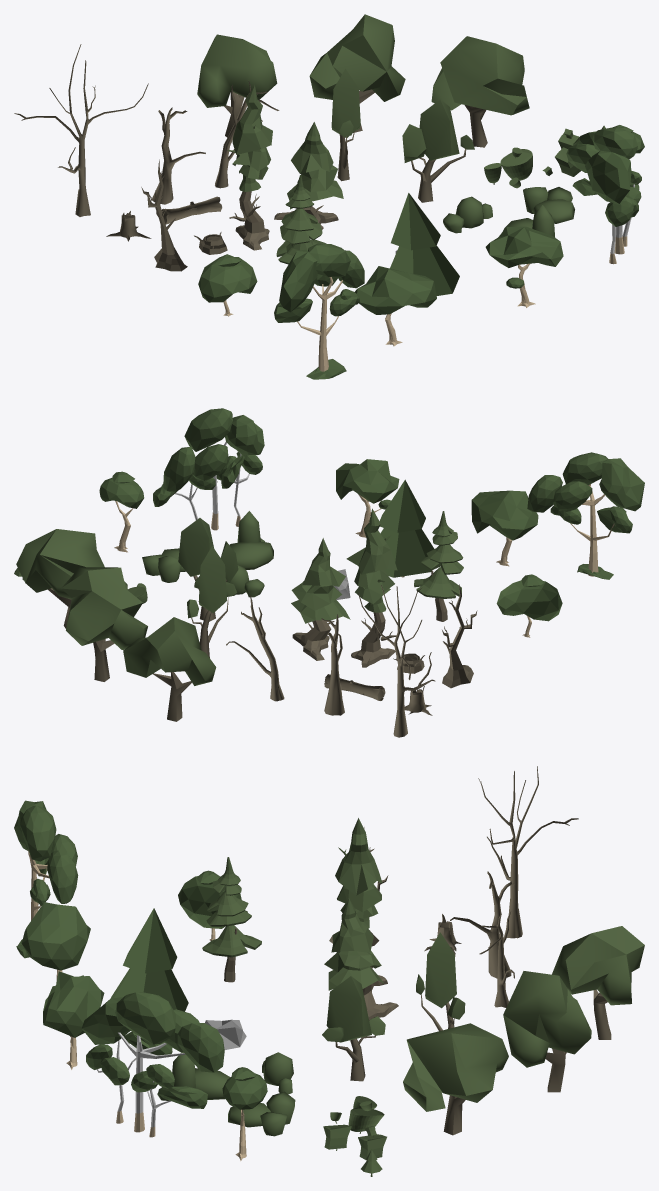
The model's file is Nature02.fbx.
3 renders of one model, top to bottom at view 1: azimuth 30°, elevation 25°; view 2: azimuth 150°, elevation 25°; view 3: azimuth 270°, elevation 25°, orthographic. The views are drawn at different scales.
Visible parts, largest first — view 1: FatTree.003, FatTree.012, FatTree.008, FatTree.002, FatTree.001, FatTree.007, FatTree.009, FatTree.004, FatTree.010, FatTree, FatTree.006, FatTree.014 (+11 smaller); view 2: FatTree.008, FatTree.012, FatTree.002, FatTree.001, FatTree.003, FatTree.007, FatTree.006, FatTree.009, FatTree.010, FatTree.011, FatTree, FatTree.014 (+11 smaller); view 3: FatTree.008, FatTree.003, FatTree.002, FatTree.001, FatTree.012, FatTree.009, FatTree.010, FatTree.006, FatTree.004, FatTree.011, FatTree.007, FatTree (+13 smaller).
Part boxes in pixels (<box>): FatTree.003: <box>431,36,529,147</box>; FatTree.012: <box>274,243,364,379</box>; FatTree.008: <box>566,127,641,264</box>; FatTree.002: <box>309,14,405,132</box>; FatTree.001: <box>197,34,277,137</box>; FatTree.007: <box>227,85,272,250</box>; FatTree.009: <box>390,193,459,295</box>; FatTree.004: <box>402,99,474,202</box>; FatTree.010: <box>354,266,436,346</box>; FatTree: <box>485,226,563,307</box>; FatTree.006: <box>274,122,343,229</box>; FatTree.014: <box>198,254,257,316</box>; FatTree.008: <box>153,408,264,530</box>; FatTree.012: <box>527,452,644,579</box>; FatTree.002: <box>61,567,147,681</box>; FatTree.001: <box>123,617,216,721</box>; FatTree.003: <box>16,529,104,628</box>; FatTree.007: <box>346,508,397,667</box>; FatTree.006: <box>291,538,350,660</box>; FatTree.009: <box>379,479,434,577</box>; FatTree.010: <box>471,490,538,566</box>; FatTree.011: <box>414,511,463,621</box>; FatTree: <box>336,459,399,537</box>; FatTree.014: <box>496,574,562,637</box>; FatTree.008: <box>81,992,224,1137</box>; FatTree.003: <box>403,1023,508,1135</box>; FatTree.002: <box>503,971,591,1092</box>; FatTree.001: <box>552,926,644,1039</box>; FatTree.012: <box>14,800,78,958</box>; FatTree.009: <box>110,908,188,1011</box>; FatTree.010: <box>21,902,90,982</box>; FatTree.006: <box>324,898,398,1020</box>; FatTree.004: <box>322,976,385,1081</box>; FatTree.011: <box>202,857,261,982</box>; FatTree.007: <box>335,818,387,991</box>; FatTree: <box>43,971,104,1069</box>.
Size of the model in its own units: 4358 by 1353 by 4347.
